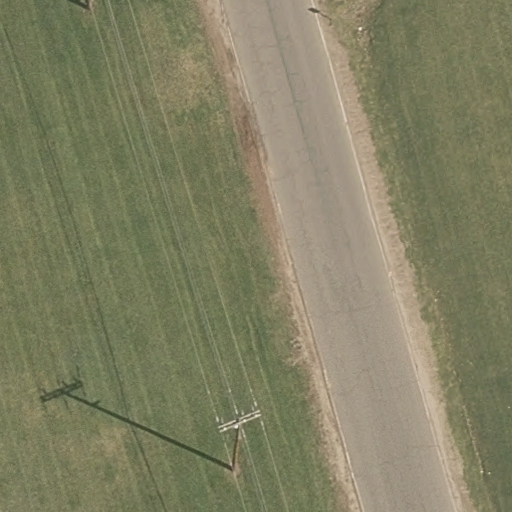DT: (209, 397, 269, 478)
